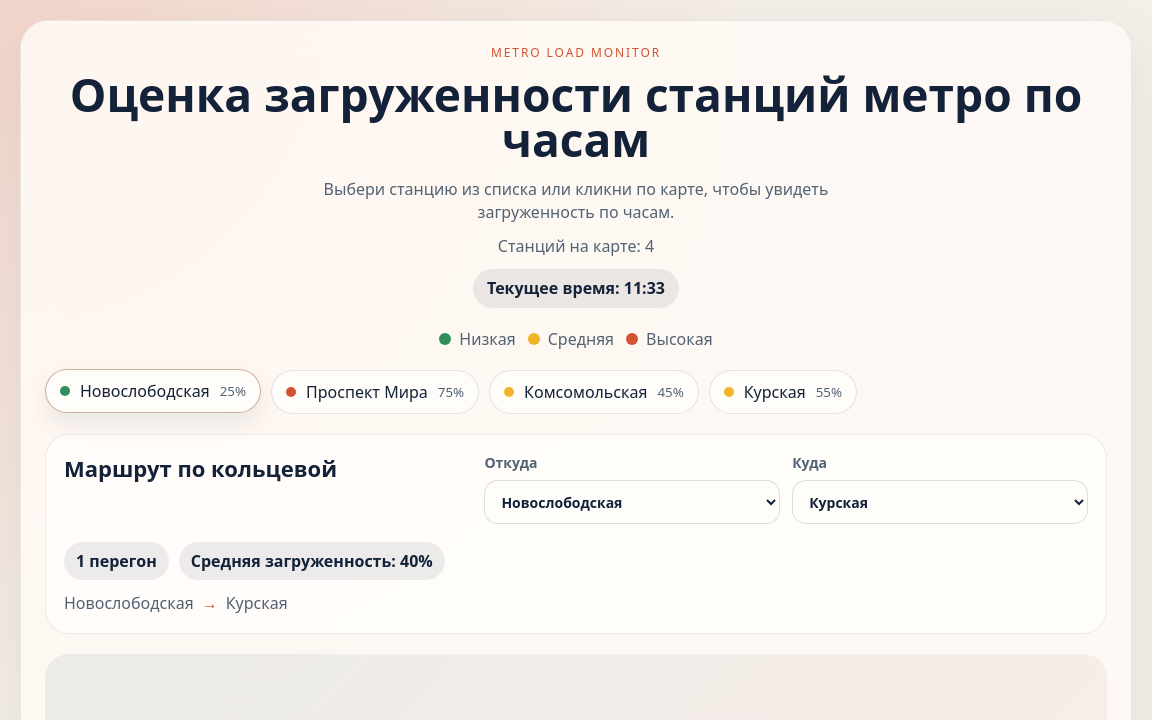
Test case: App › builds a free ring route from selected stations
Expected: the heading "Маршрут по кольцевой" is shown, [64,454,337,484]
Expected: the text "1 перегон" is shown, [64,542,169,580]
Select "Комсомольская" in the dropdown labelled "Куда" at (940, 502), box [792,480,1088,524]
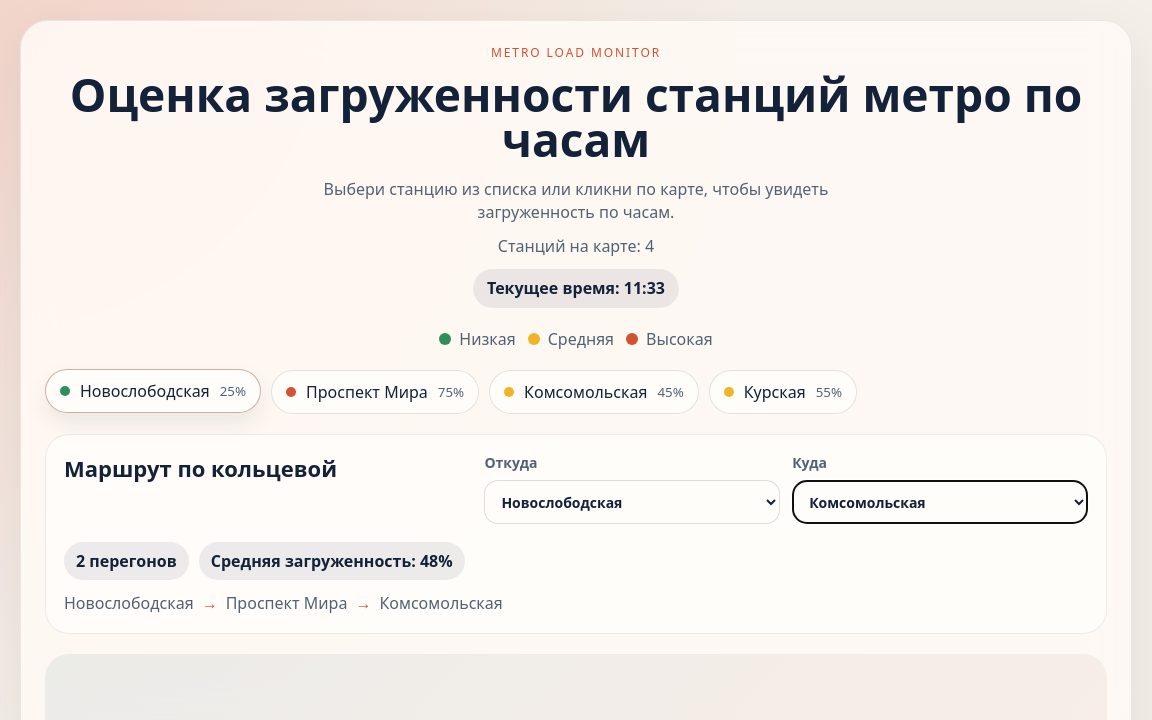
Now the text "2 перегонов" is shown, box [64,542,189,580]
Now the text "Средняя загруженность: 48%" is shown, box [199,542,465,580]
